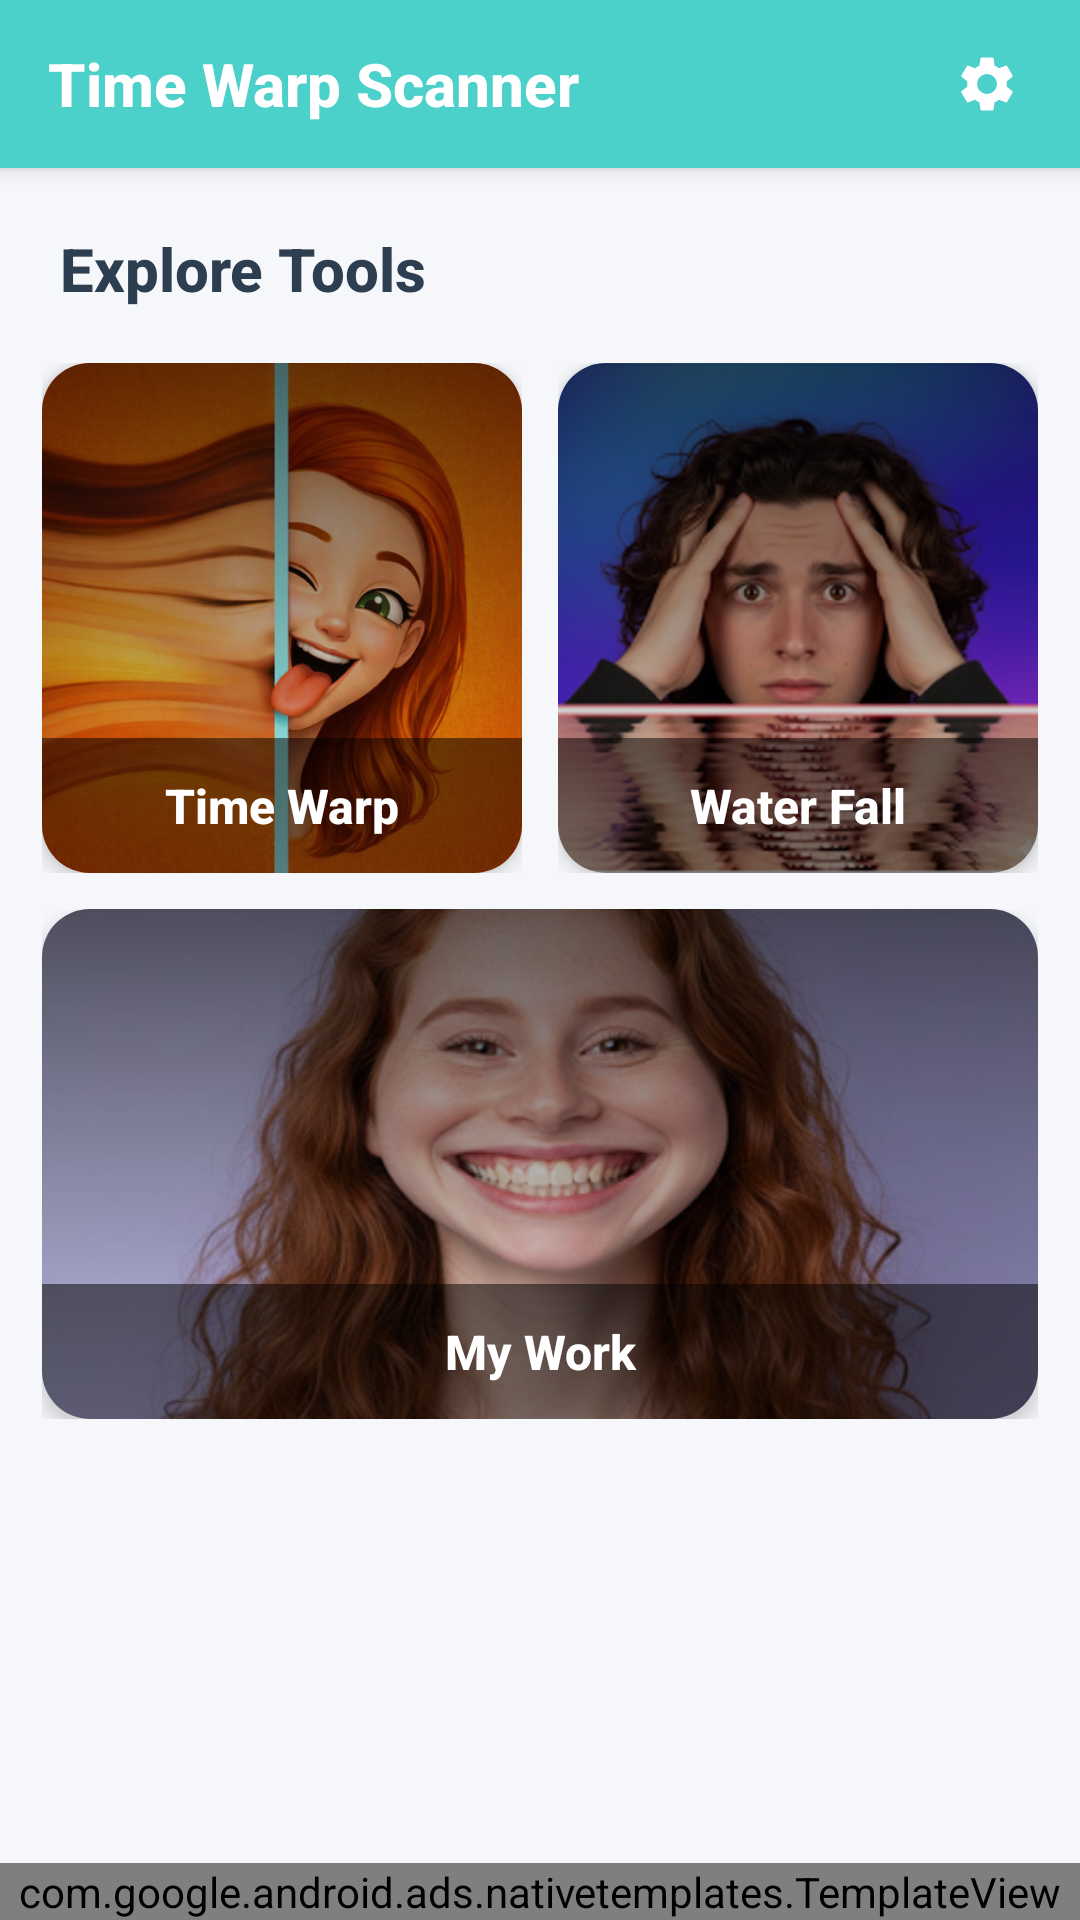

Screen size 1080 × 1920. Icon name, then its box in pixels as (x1, y1, x2, y2):
setting: (961, 57, 1013, 111)
